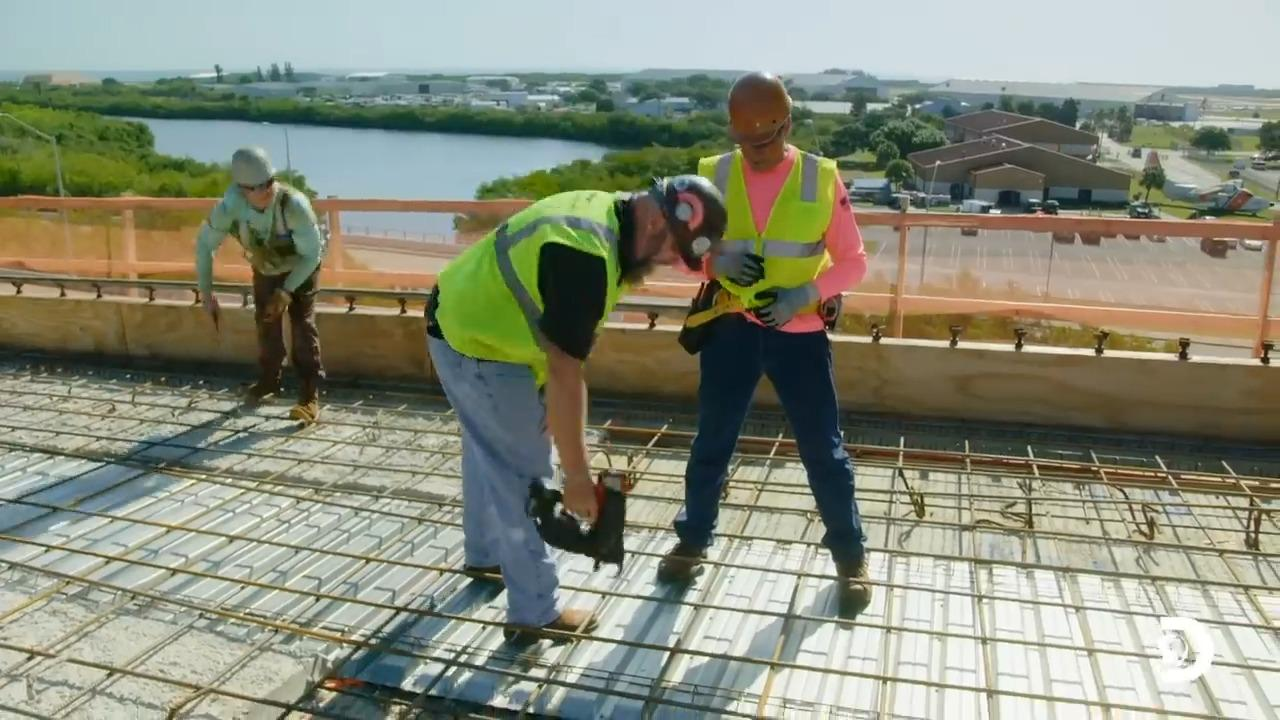Gloves: (750, 283, 798, 329), (714, 249, 760, 286), (255, 288, 290, 327)
Helmet: (649, 173, 727, 271), (726, 71, 792, 146), (230, 146, 275, 186)
Person: (422, 173, 728, 644), (656, 70, 871, 610), (194, 145, 325, 425)
Safety Boot: (506, 617, 585, 645), (831, 559, 873, 610), (661, 539, 696, 580), (464, 559, 504, 581), (242, 377, 279, 398), (288, 399, 315, 414)
Safety Vest: (716, 161, 821, 326), (456, 228, 601, 341), (240, 201, 294, 271)
bare-arms: (565, 466, 599, 519), (199, 288, 222, 321)
